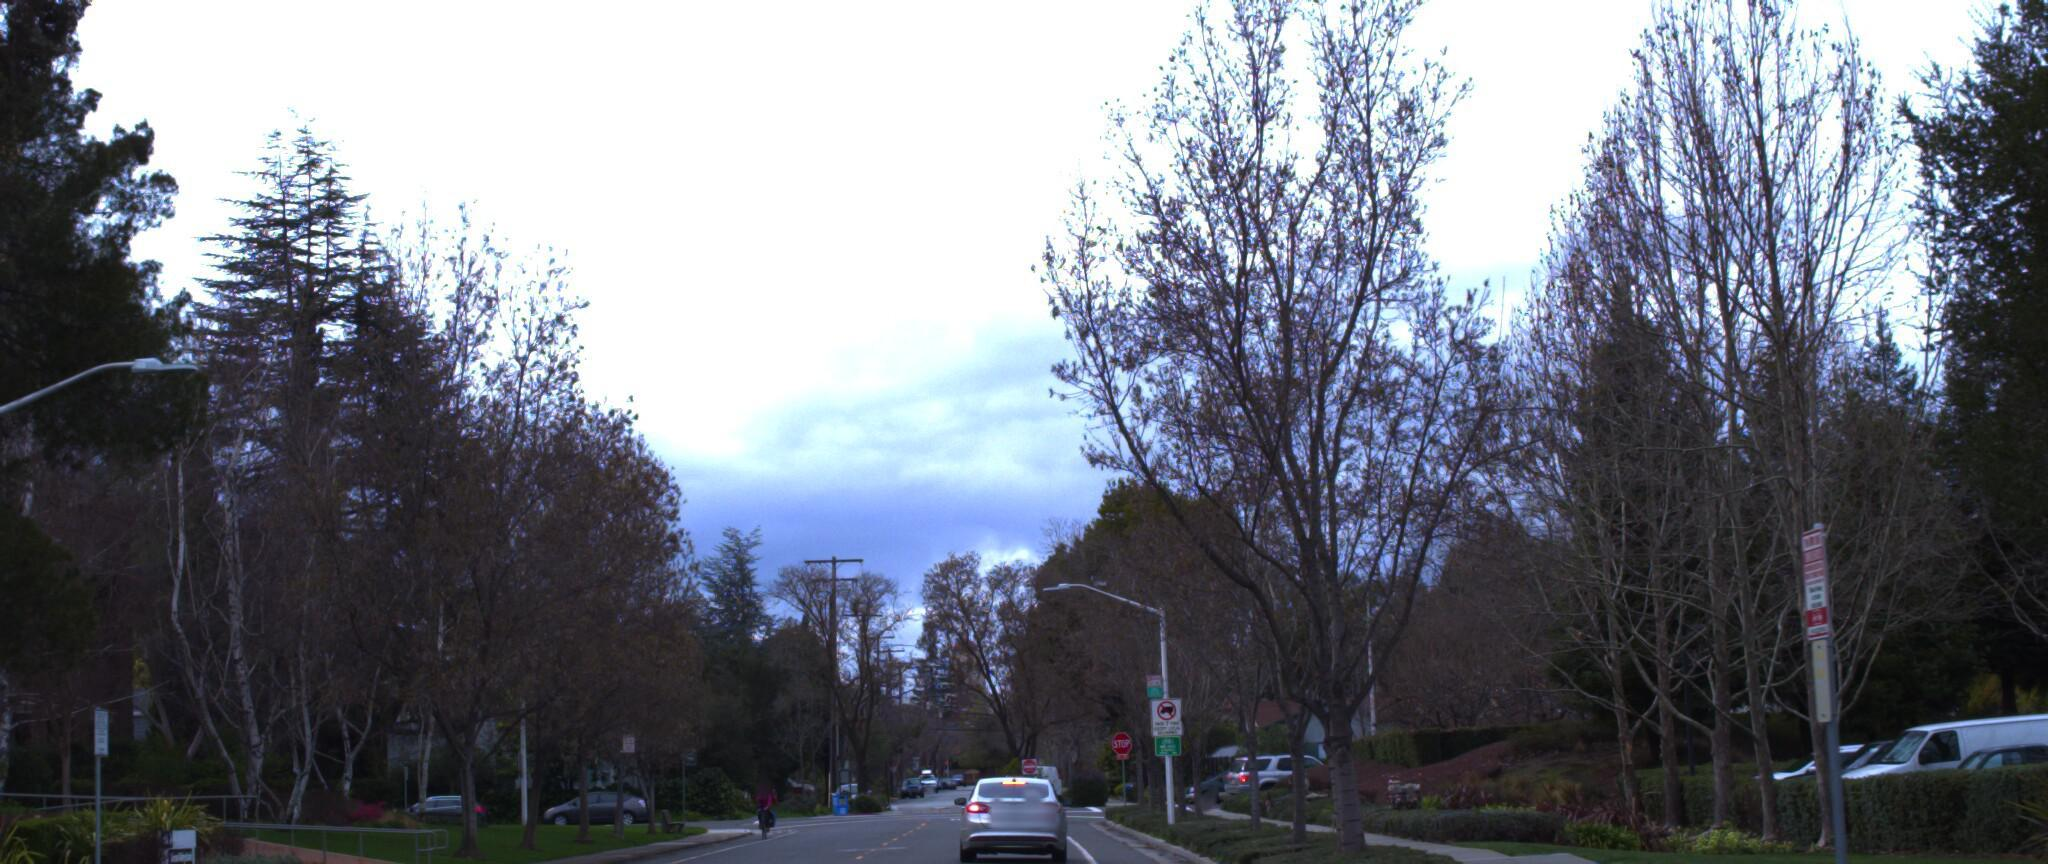car: (936, 752, 1058, 854)
